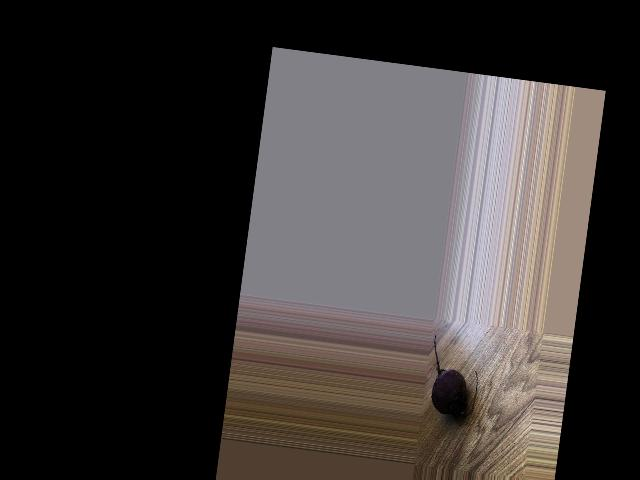beet: (424, 335, 483, 420)
